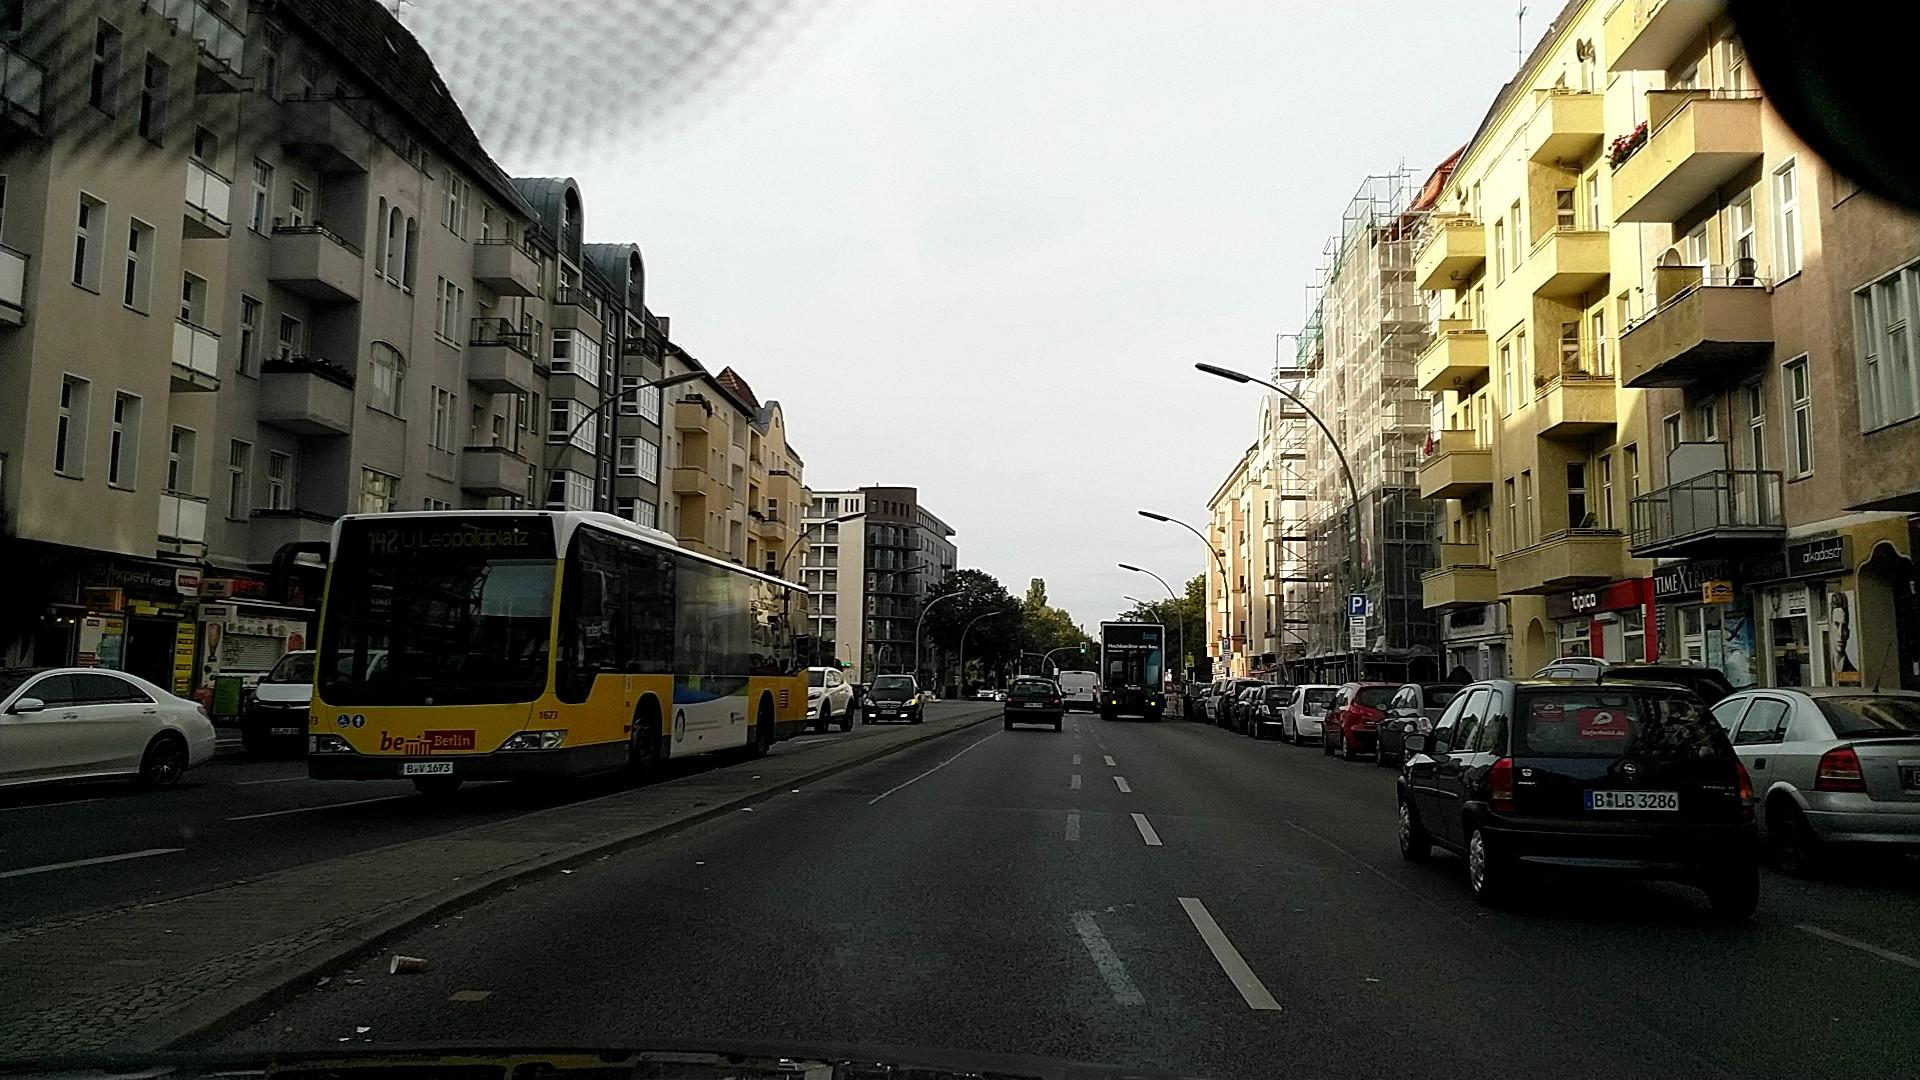Vehicle registration plate: (1583, 789, 1680, 812), (397, 762, 453, 775), (269, 726, 301, 736), (1024, 702, 1043, 708), (880, 709, 897, 715)
